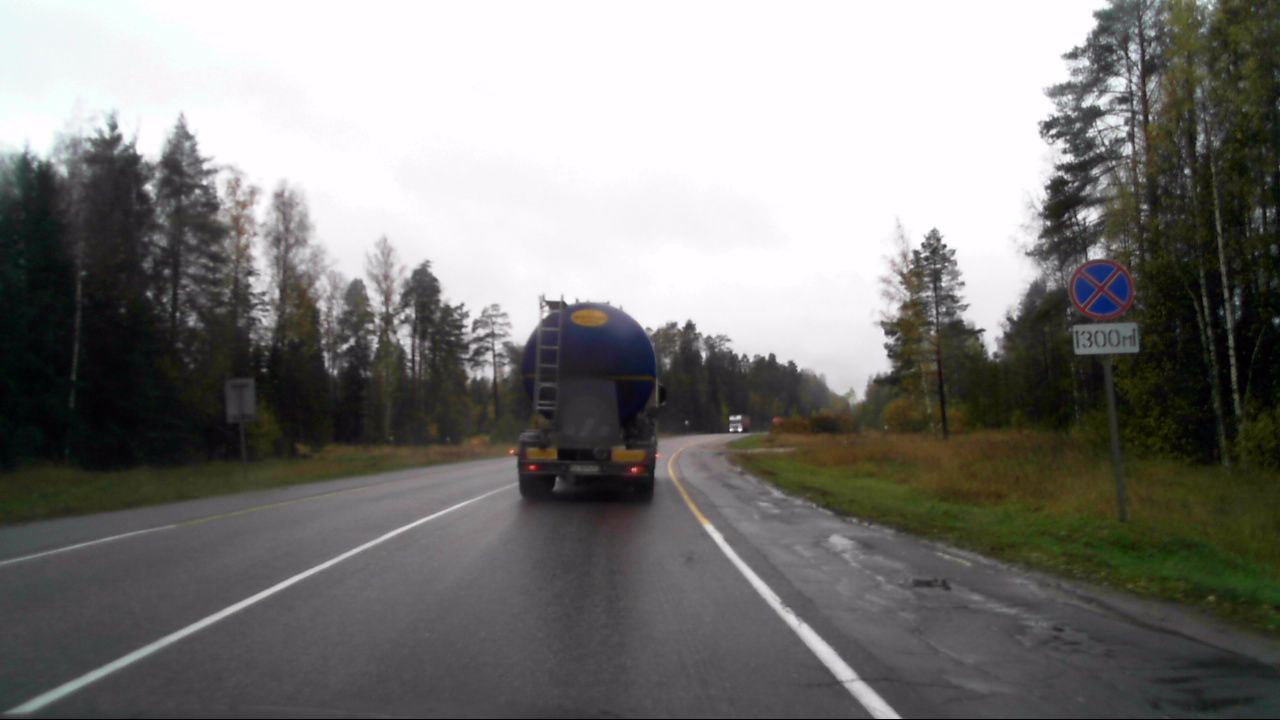No Parking: (1067, 257, 1133, 318)
